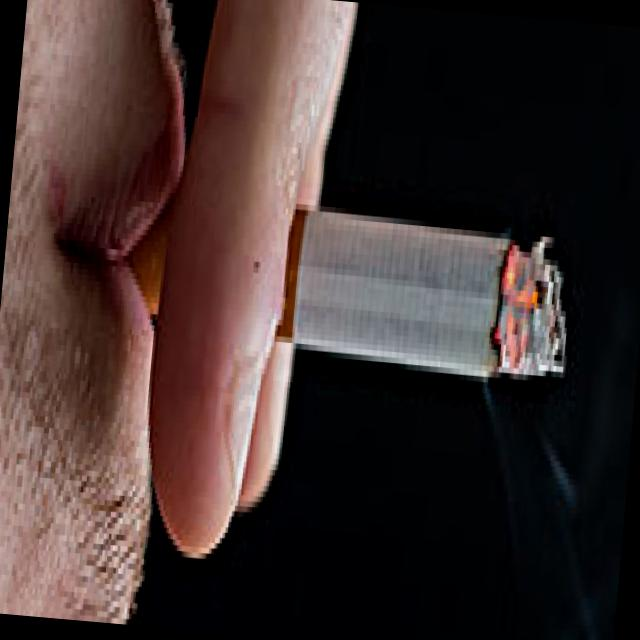smoke: (102, 136, 598, 418)
